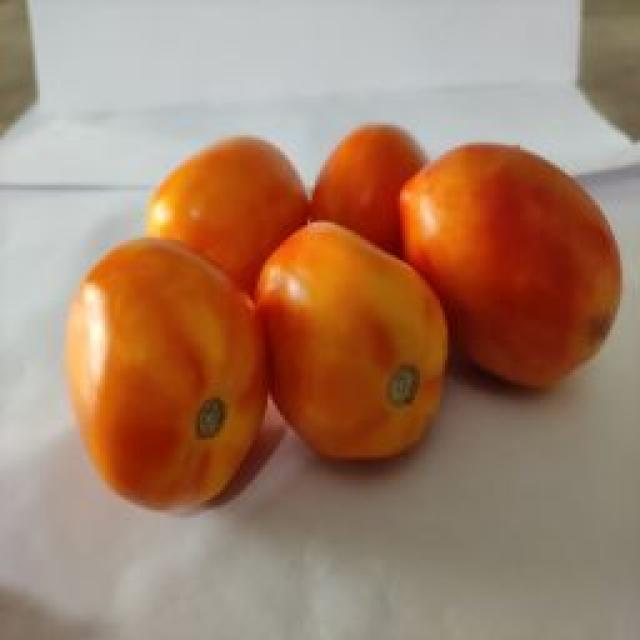tomato: (67, 234, 269, 511), (396, 144, 620, 390), (260, 220, 450, 460), (148, 136, 310, 311), (310, 122, 428, 272)
